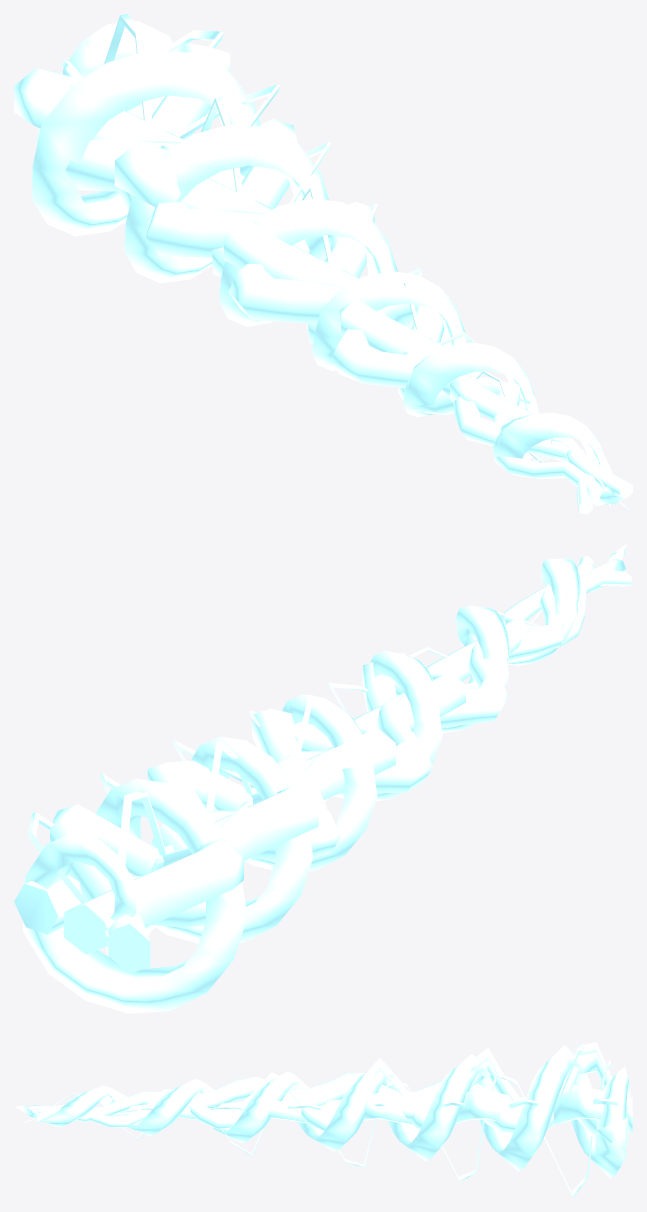
The model's file is beam.glb.
The picture shows the model from 3 angles, top to bottom: view 1: azimuth 30°, elevation 25°; view 2: azimuth 150°, elevation 25°; view 3: azimuth 270°, elevation 25°; orthographic projection. The views are drawn at different scales.
Parts seen in each view (by area): view 1: beam_helix, Cylinder, Cylinder.002, Cylinder.001, Cylinder.004, Cylinder.003; view 2: beam_helix, Cylinder, Cylinder.002, Cylinder.001, Cylinder.003, Cylinder.004, Cylinder.005; view 3: beam_helix, Cylinder.002, Cylinder, Cylinder.001, Cylinder.005, Cylinder.004, Cylinder.003.
Part boxes in pixels (bbox=[...]): beam_helix: bbox=[32, 21, 624, 503]; Cylinder: bbox=[14, 67, 632, 498]; Cylinder.002: bbox=[65, 96, 604, 506]; Cylinder.001: bbox=[37, 42, 593, 514]; Cylinder.004: bbox=[173, 30, 579, 513]; Cylinder.003: bbox=[104, 14, 610, 506]; beam_helix: bbox=[23, 543, 627, 1013]; Cylinder: bbox=[63, 555, 593, 954]; Cylinder.002: bbox=[14, 558, 626, 934]; Cylinder.001: bbox=[49, 570, 631, 973]; Cylinder.003: bbox=[105, 624, 544, 941]; Cylinder.004: bbox=[28, 583, 632, 930]; Cylinder.005: bbox=[109, 563, 594, 960]; beam_helix: bbox=[14, 1045, 632, 1178]; Cylinder.002: bbox=[33, 1072, 628, 1149]; Cylinder: bbox=[37, 1042, 632, 1134]; Cylinder.001: bbox=[92, 1088, 632, 1125]; Cylinder.005: bbox=[24, 1060, 611, 1197]; Cylinder.004: bbox=[120, 1098, 628, 1112]; Cylinder.003: bbox=[157, 1047, 610, 1106].
Size of the model in its own units: 0.2325 by 0.251 by 1.04.
